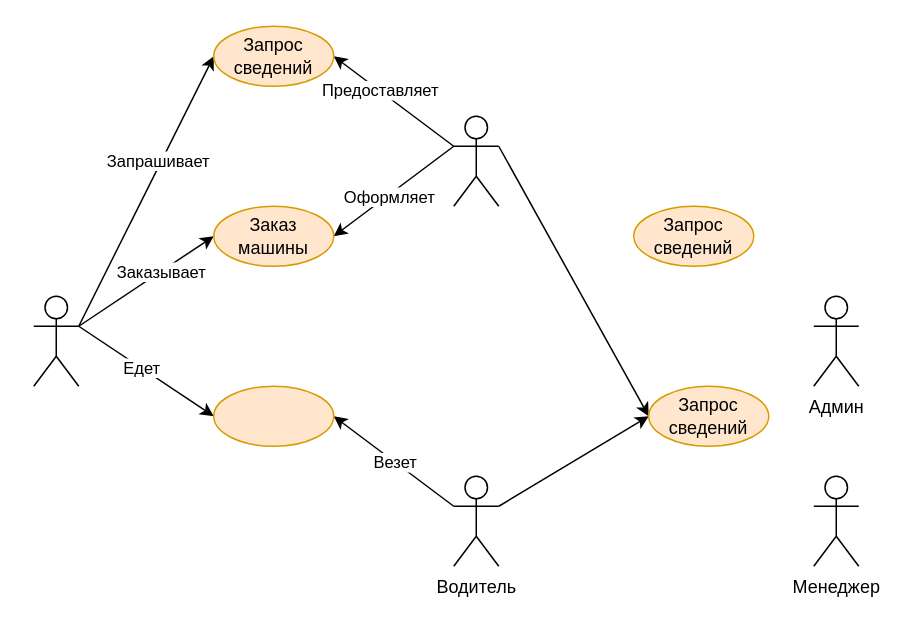
Some shapes in this 906 by 624 pixel diagram are drawn without their labels. The box of each missing label's shape, as (x1, y1, x2, y2) in pixels:
Диспечер: (452, 115, 499, 206)
Извоз: (212, 385, 334, 446)
Клиент: (32, 295, 79, 386)
